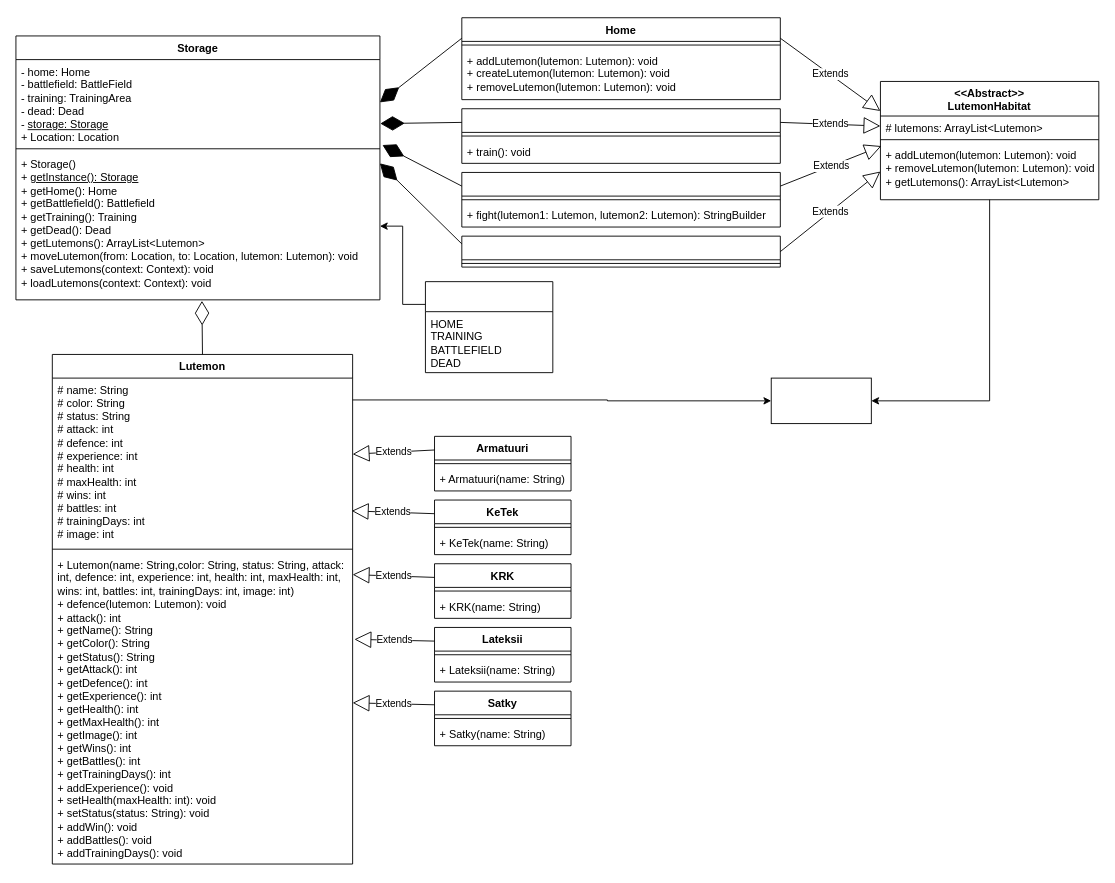
Image size: 1115x883. Some labels were removed from this diagram. The box of each missing label's shape, as (x1, y1, x2, y2) in pixels:
<<enumeration>> Location: (425, 281, 553, 373)
BattleField: (461, 172, 780, 227)
Dead: (461, 235, 780, 267)
Serializable: (770, 377, 871, 424)
TrainingArea: (461, 108, 780, 163)
